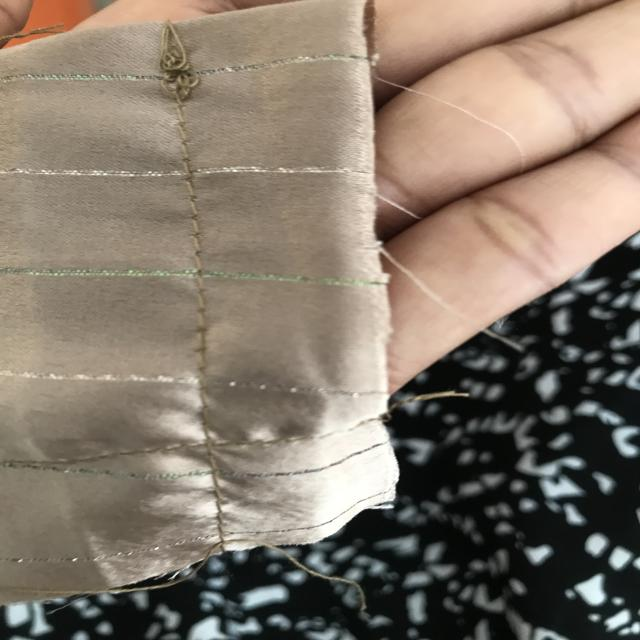good: (171, 180, 219, 263)
